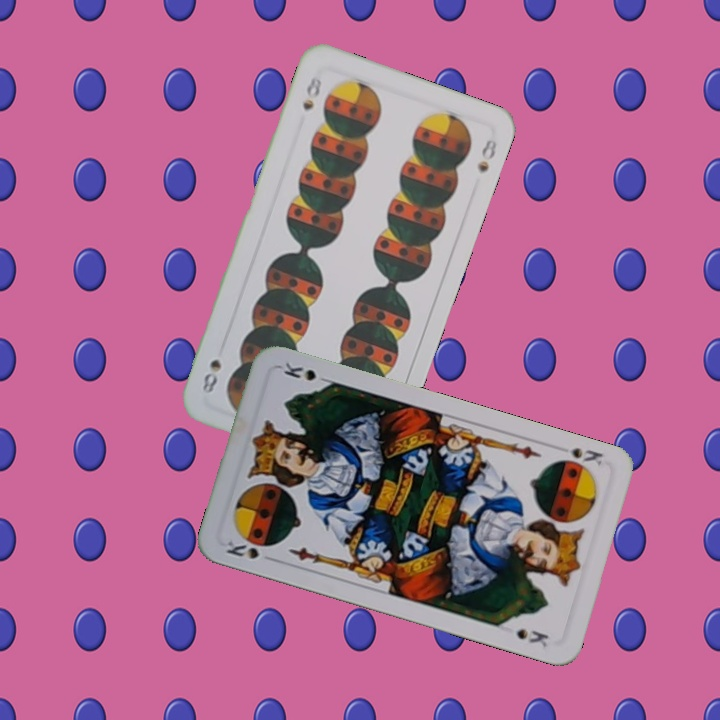S8: (298, 71, 325, 113)
SK: (220, 536, 278, 564), (568, 443, 606, 468)
